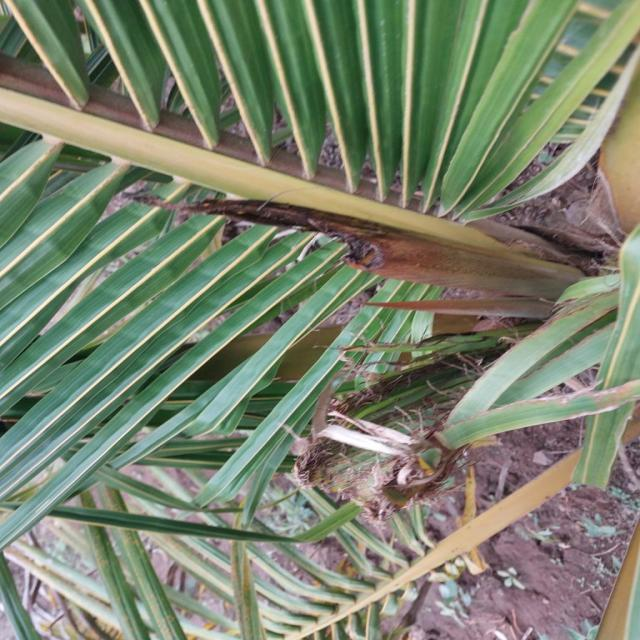bud rot: (186, 200, 583, 318)
